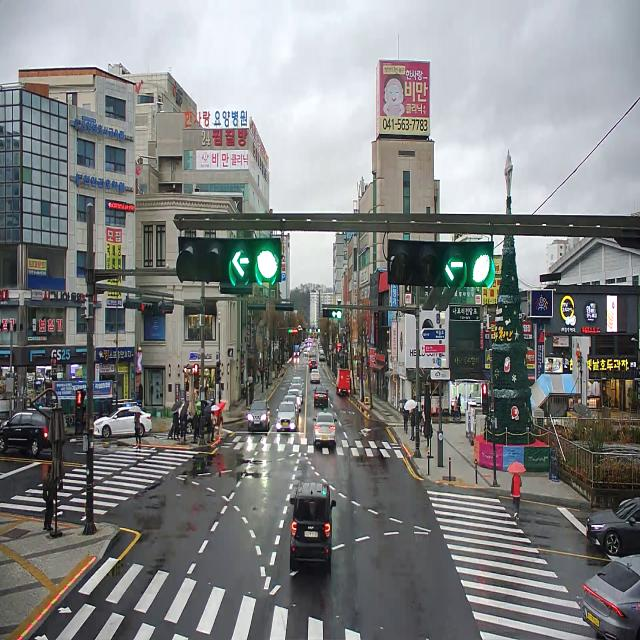Car: (582, 553, 640, 640), (290, 482, 336, 563), (585, 496, 640, 555), (0, 409, 56, 456), (93, 403, 152, 438), (314, 408, 338, 442), (246, 400, 270, 431), (276, 401, 298, 429), (283, 394, 299, 418), (312, 386, 328, 406), (288, 389, 302, 410), (289, 384, 304, 403), (310, 369, 320, 383), (292, 377, 304, 386), (310, 360, 318, 371), (294, 344, 300, 356), (319, 354, 325, 361)
Truck: (336, 368, 350, 394)
